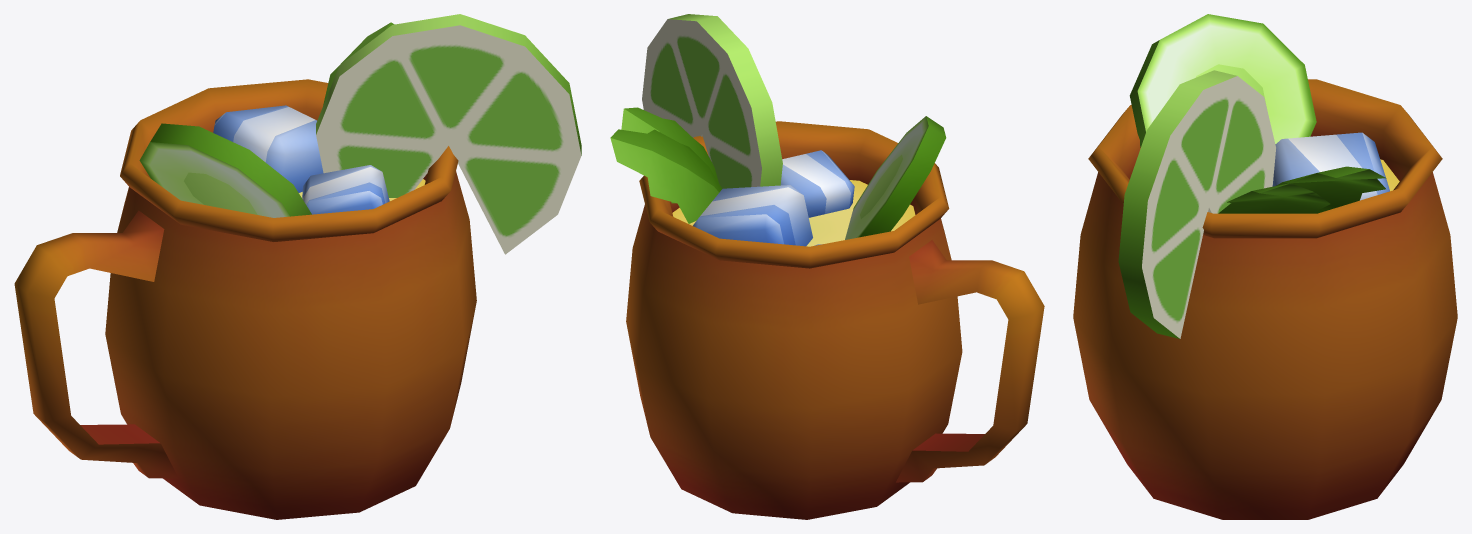
File: m_MoscowMule01.fbx
The picture shows the model from 3 angles, left to right: view 1: azimuth 30°, elevation 25°; view 2: azimuth 150°, elevation 25°; view 3: azimuth 270°, elevation 25°; orthographic projection. The views are drawn at different scales.
Parts seen in each view (by area): view 1: m_MoscowMule01; view 2: m_MoscowMule01; view 3: m_MoscowMule01.
Boxes of the visible parts, left/top/right/bottom form: m_MoscowMule01: left=14, top=14, right=581, bottom=519; m_MoscowMule01: left=610, top=14, right=1044, bottom=519; m_MoscowMule01: left=1073, top=14, right=1457, bottom=519.
Bounding box in the file's own units: 21.65 × 18.11 × 14.26.
